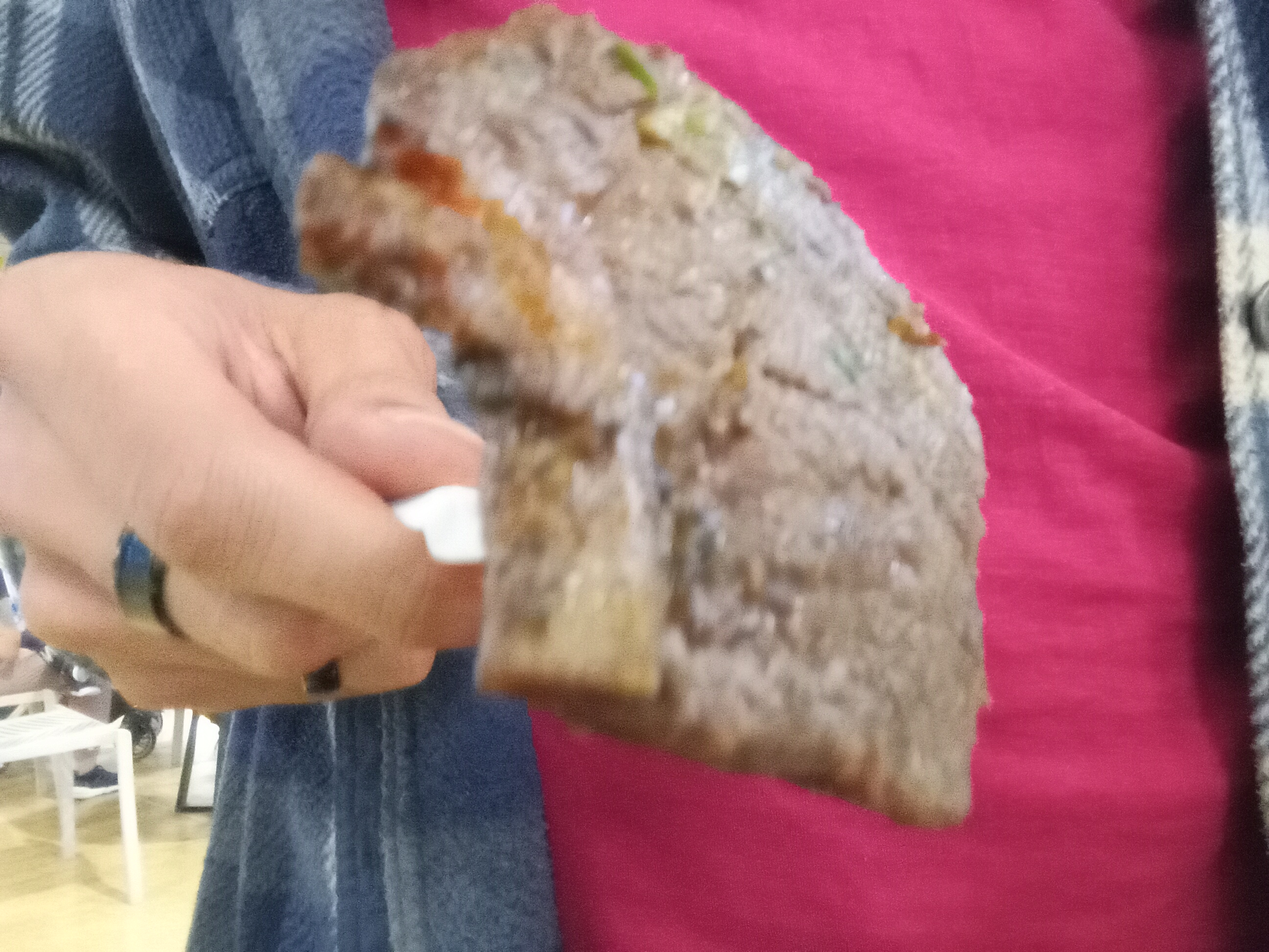Organico: (288, 8, 982, 838)
